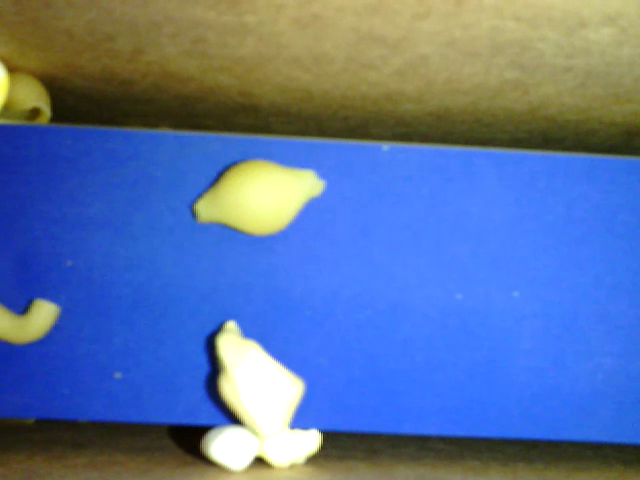elbow: (2, 292, 66, 344)
shell: (186, 160, 327, 235), (2, 70, 55, 127)
tortellini: (210, 318, 308, 441)
